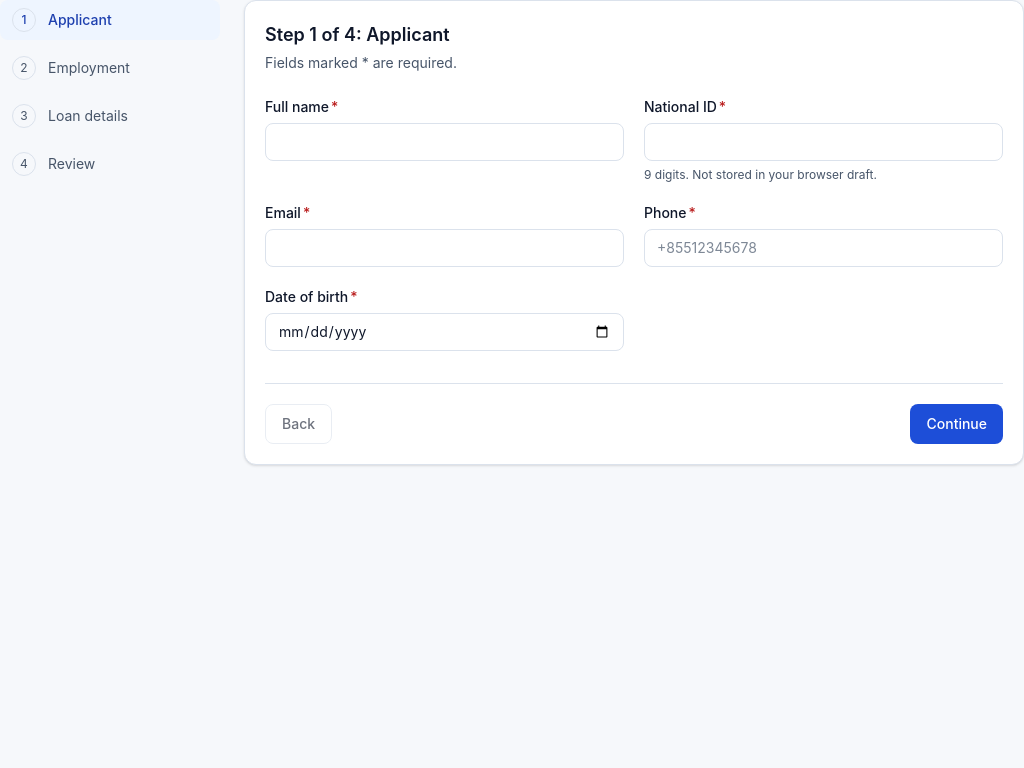
Test: ApplicationWizard › blocks progress until the current step is valid
Step 1. Click the button "Continue" → (957, 424), box [910,404,1003,444]
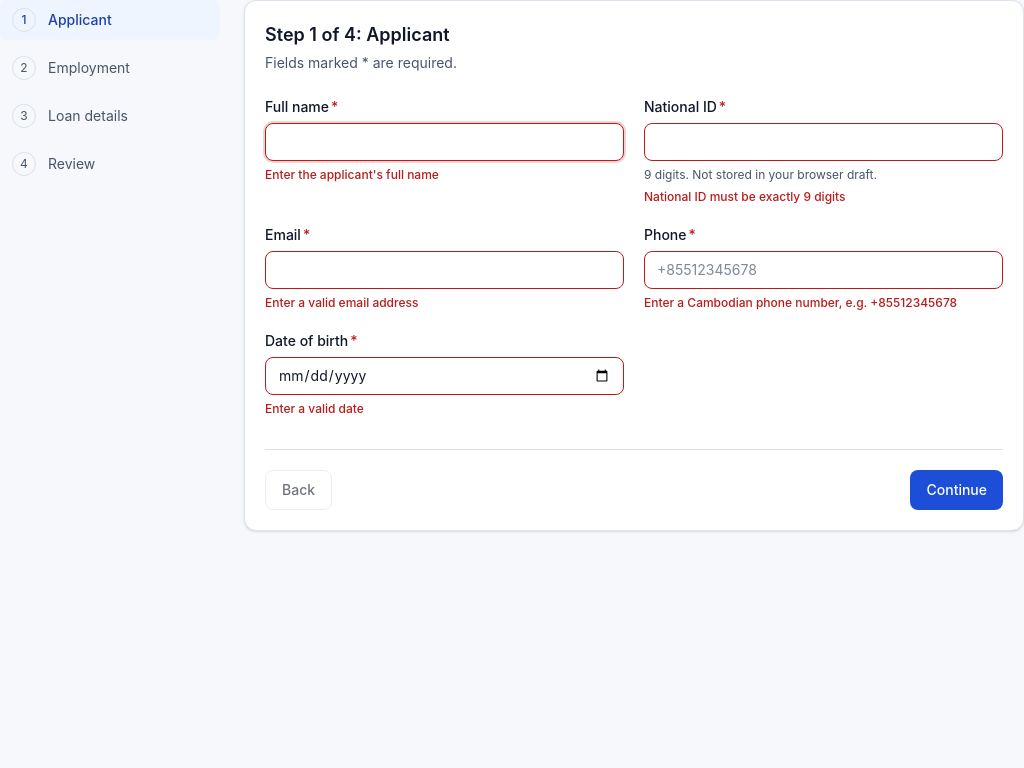
expect the heading "Step 1 of 4: Applicant" is shown: met, box [265,24,450,45]
expect the text "Enter the applicant's full name" is shown: met, box [265,167,439,182]
